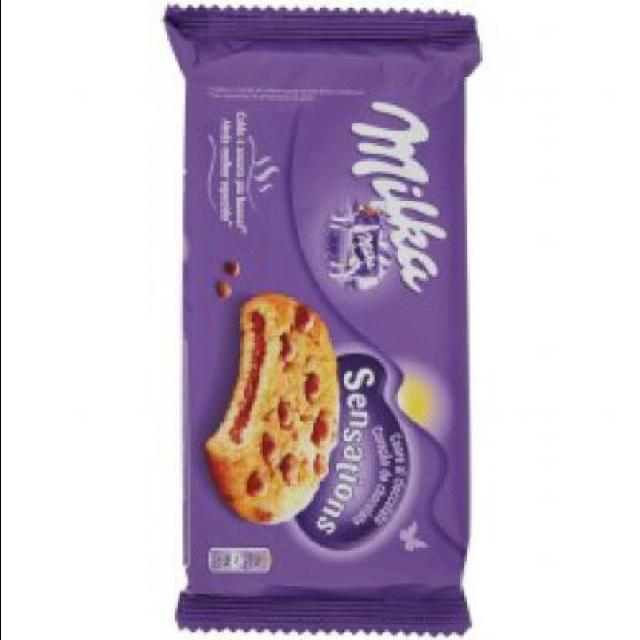Merendine: (161, 2, 484, 638)
